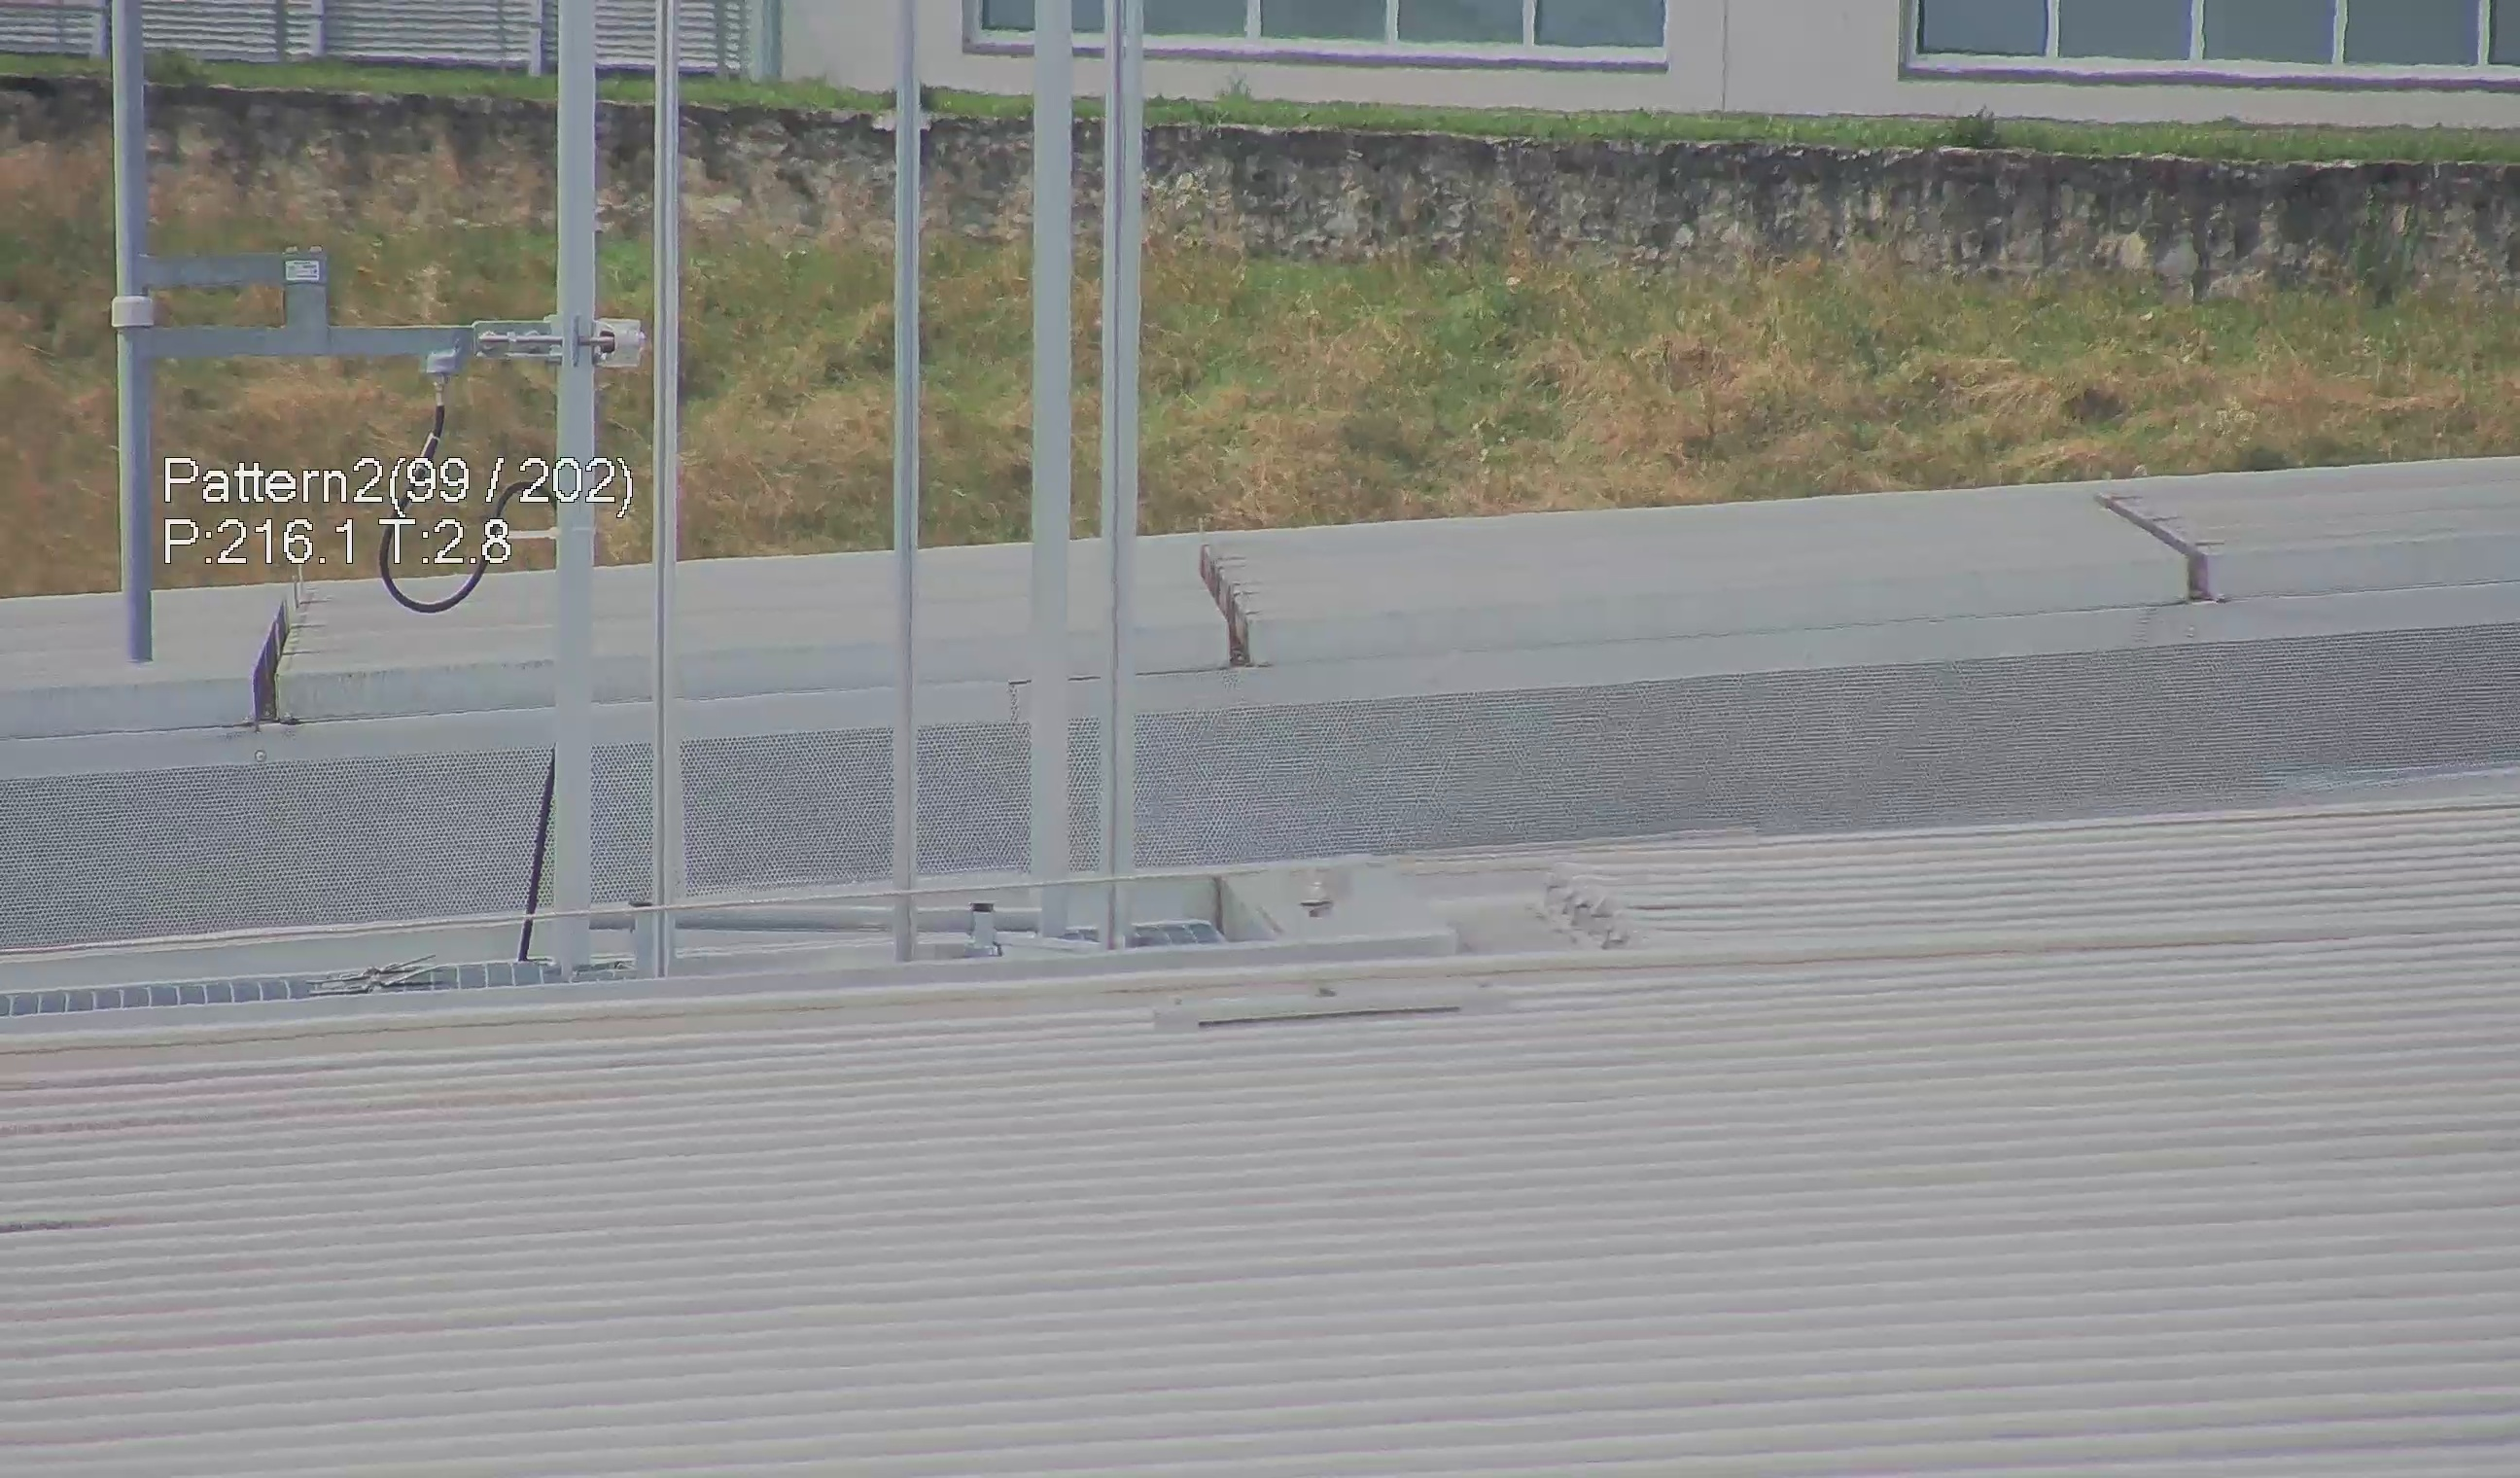Other: (1187, 526, 1271, 676)
